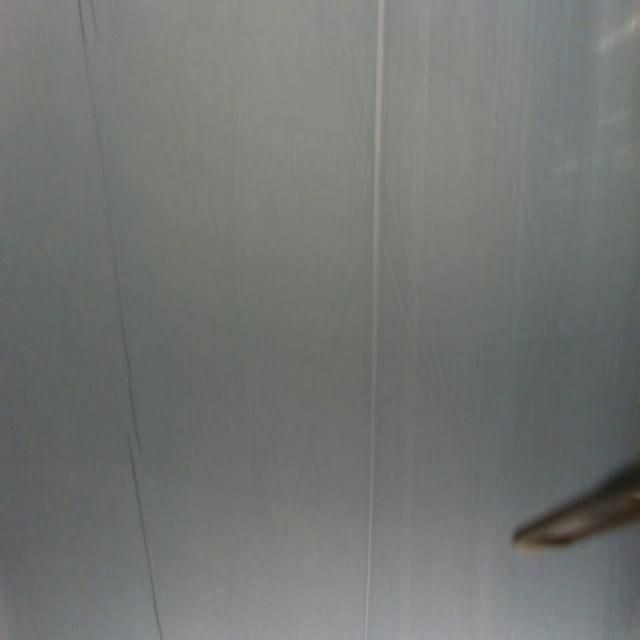crease: (74, 0, 164, 639), (361, 1, 393, 640)
